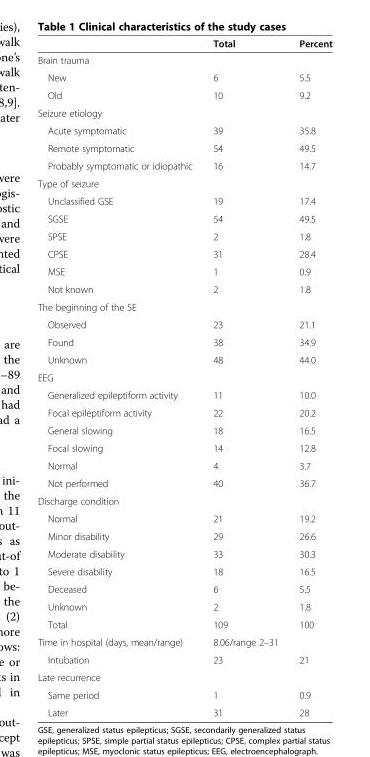table: (36, 37, 331, 717)
table column: (36, 37, 202, 717), (202, 37, 288, 717), (288, 37, 331, 717)
table column header: (36, 37, 331, 51)
table projected row header: (36, 103, 331, 121), (36, 297, 331, 315), (36, 491, 331, 509), (36, 51, 331, 68), (36, 174, 331, 191), (36, 368, 331, 385), (36, 668, 331, 685)
table row: (36, 68, 331, 86), (36, 103, 331, 121), (36, 121, 331, 139), (36, 156, 331, 174), (36, 191, 331, 209), (36, 209, 331, 227), (36, 244, 331, 262), (36, 262, 331, 280), (36, 297, 331, 315), (36, 315, 331, 333), (36, 350, 331, 368), (36, 385, 331, 403), (36, 403, 331, 421), (36, 438, 331, 456), (36, 456, 331, 474), (36, 491, 331, 509), (36, 509, 331, 527), (36, 544, 331, 562), (36, 579, 331, 597), (36, 597, 331, 615), (36, 632, 331, 650), (36, 650, 331, 668), (36, 685, 331, 703), (36, 51, 331, 68), (36, 86, 331, 103), (36, 139, 331, 156), (36, 174, 331, 191), (36, 227, 331, 244), (36, 280, 331, 297), (36, 333, 331, 350), (36, 368, 331, 385), (36, 421, 331, 438), (36, 474, 331, 491), (36, 527, 331, 544), (36, 562, 331, 579), (36, 615, 331, 632), (36, 668, 331, 685), (36, 37, 331, 51), (36, 703, 331, 717)
